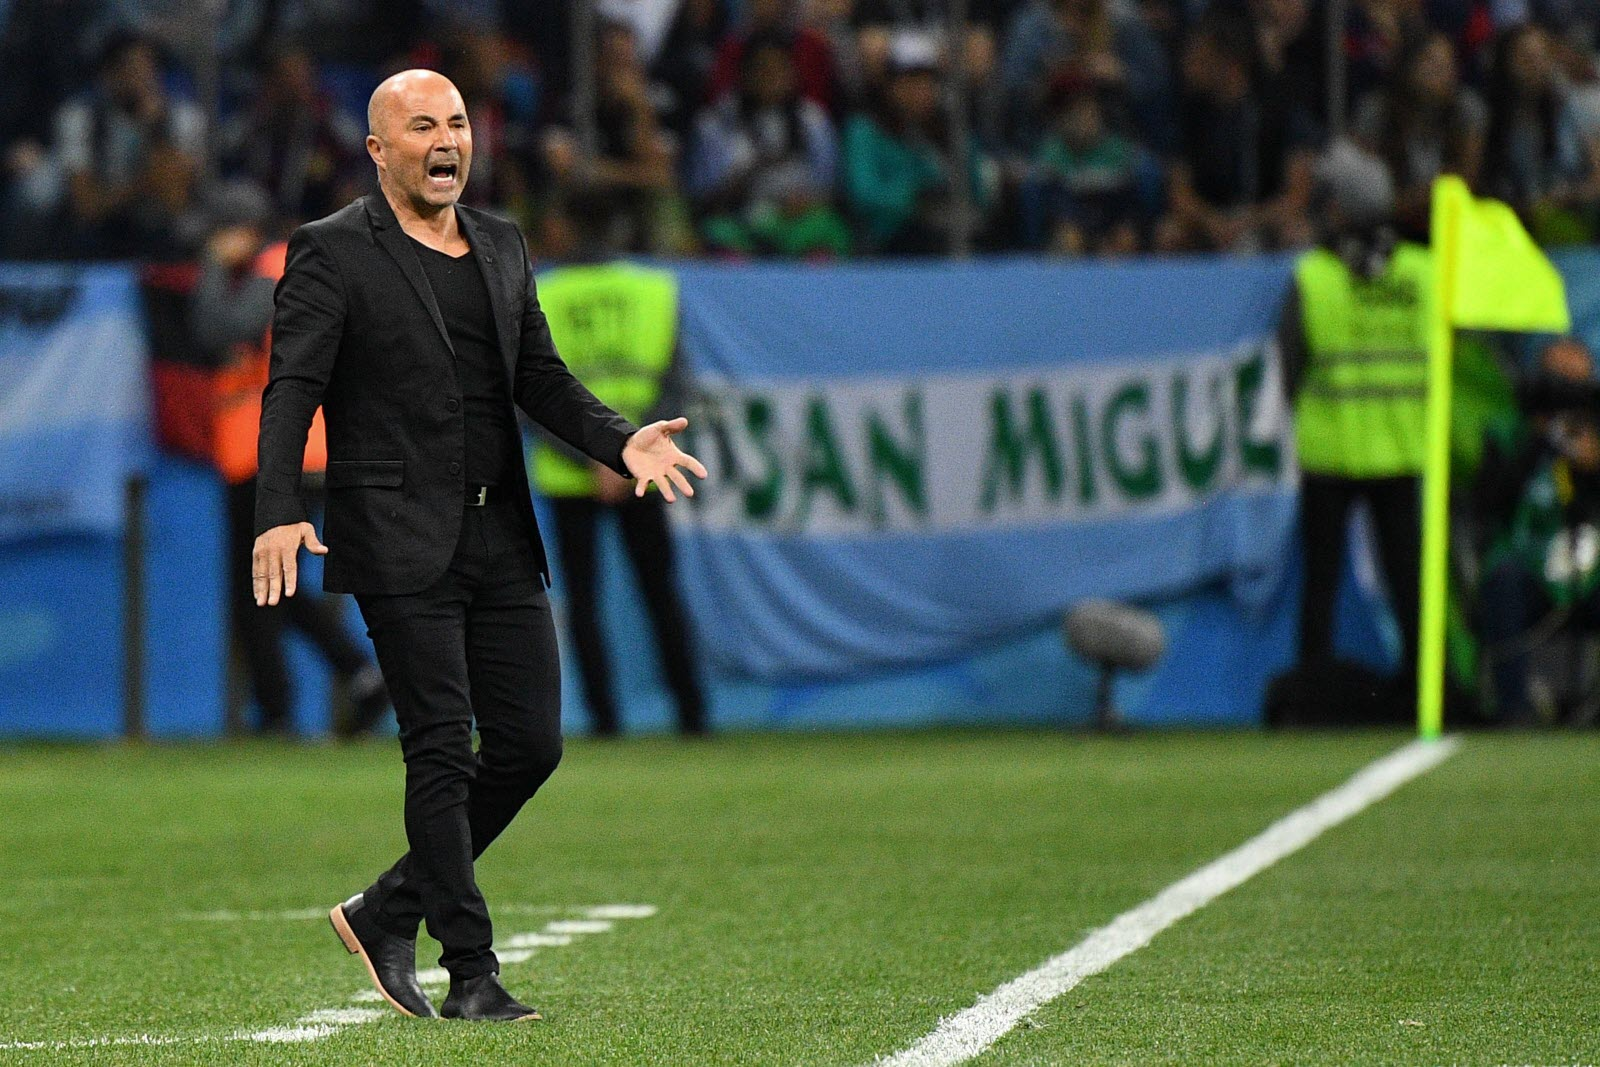no-glove: (376, 82, 508, 227)
none: (603, 406, 724, 522), (224, 522, 337, 645)
